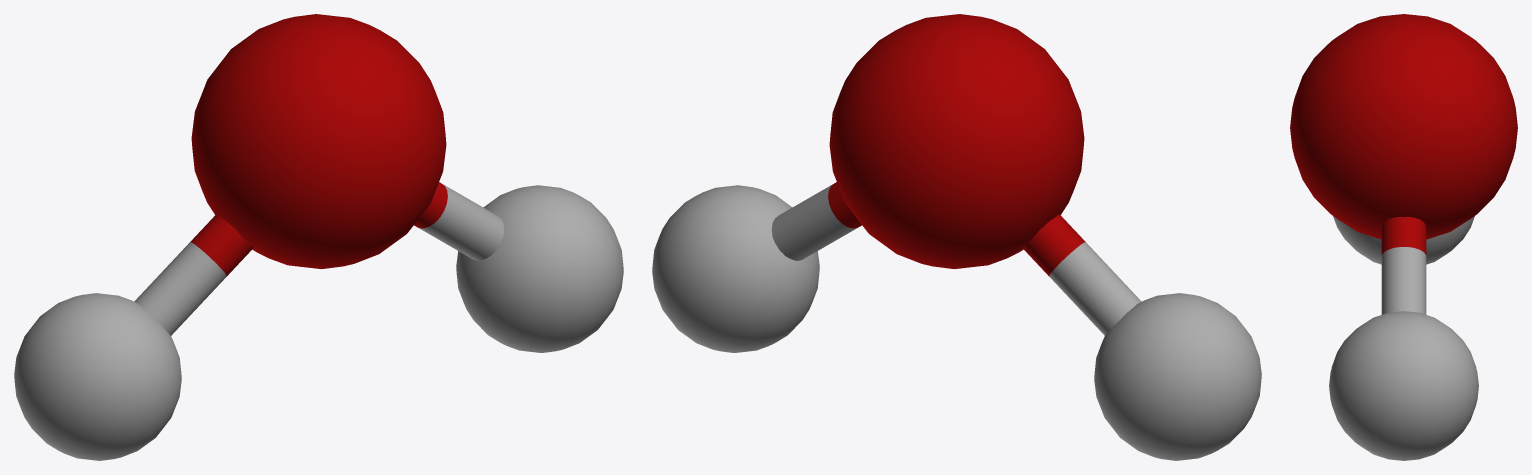
3 views of the same model, side by side, from view 1: azimuth 30°, elevation 25°; view 2: azimuth 150°, elevation 25°; view 3: azimuth 270°, elevation 25° (orthographic). The views are drawn at different scales.
Visible parts, largest first — view 1: vmd_mol0_rep0; view 2: vmd_mol0_rep0; view 3: vmd_mol0_rep0.
Boxes of the visible parts, x1,y1,x2,y2 form: vmd_mol0_rep0: [14, 14, 623, 460]; vmd_mol0_rep0: [652, 14, 1261, 460]; vmd_mol0_rep0: [1290, 14, 1517, 460].
Bounding box in the file's own units: 2.02 × 1.23 × 0.76.
